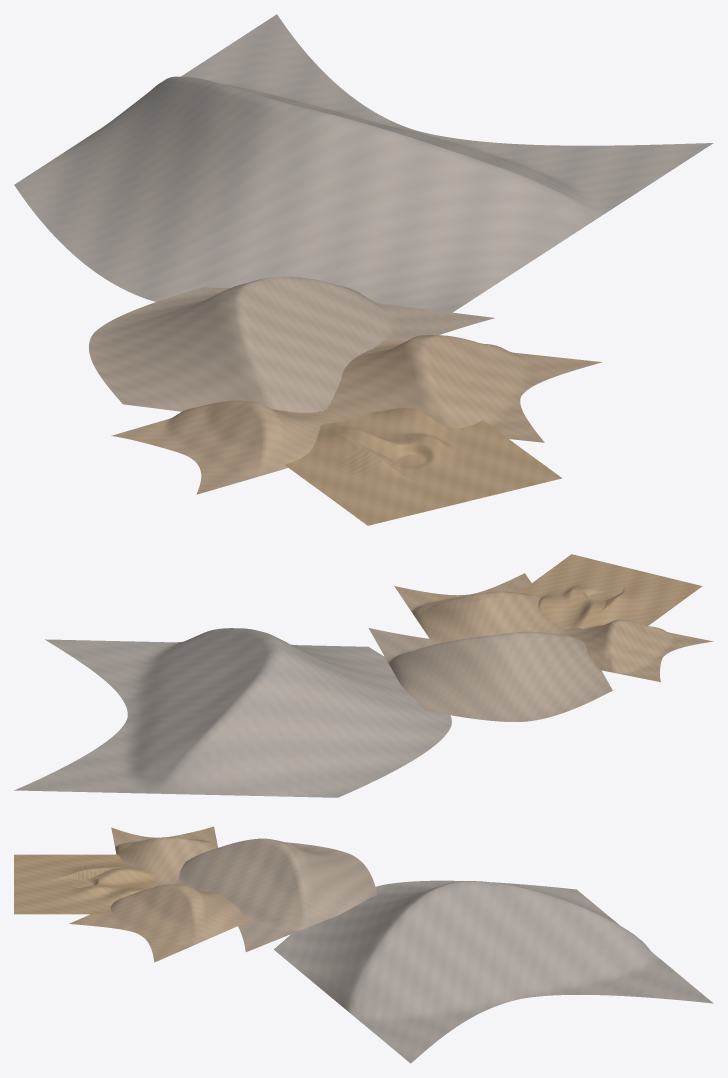
The model's file is dune_web_optimized.glb.
3 views of the same model, one above another, from view 1: azimuth 30°, elevation 25°; view 2: azimuth 150°, elevation 25°; view 3: azimuth 270°, elevation 25° (orthographic). The views are drawn at different scales.
Visible parts, largest first — view 1: WEB_Distant Horizon Dune, WEB_Background Far Ridge, WEB_Desert Base Terrain, WEB_Background Dune Right, WEB_Background Dune Left; view 2: WEB_Distant Horizon Dune, WEB_Background Far Ridge, WEB_Desert Base Terrain, WEB_Background Dune Right, WEB_Background Dune Left; view 3: WEB_Distant Horizon Dune, WEB_Background Far Ridge, WEB_Desert Base Terrain, WEB_Background Dune Right, WEB_Background Dune Left.
Part boxes in pixels (bbox=[...]): WEB_Distant Horizon Dune: bbox=[14, 14, 713, 312]; WEB_Background Far Ridge: bbox=[89, 277, 494, 421]; WEB_Desert Base Terrain: bbox=[285, 408, 561, 525]; WEB_Background Dune Right: bbox=[323, 335, 602, 442]; WEB_Background Dune Left: bbox=[111, 400, 341, 494]; WEB_Distant Horizon Dune: bbox=[14, 628, 451, 797]; WEB_Background Far Ridge: bbox=[368, 625, 612, 721]; WEB_Desert Base Terrain: bbox=[519, 554, 702, 628]; WEB_Background Dune Right: bbox=[394, 573, 563, 644]; WEB_Background Dune Left: bbox=[559, 619, 713, 682]; WEB_Distant Horizon Dune: bbox=[274, 880, 713, 1063]; WEB_Background Far Ridge: bbox=[155, 838, 377, 951]; WEB_Desert Base Terrain: bbox=[14, 854, 155, 914]; WEB_Background Dune Right: bbox=[69, 883, 250, 962]; WEB_Background Dune Left: bbox=[111, 826, 217, 883].
Bounding box in the file's own units: 374 × 48.32 × 476.
